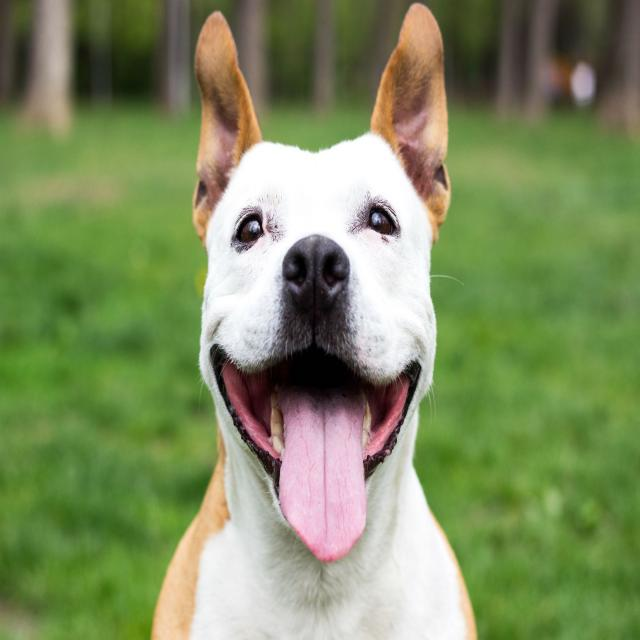dogs: (148, 0, 479, 640)
